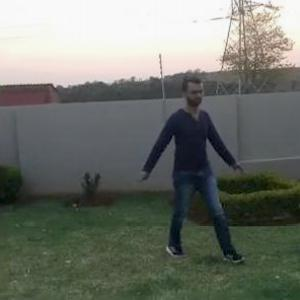land: (127, 71, 245, 270)
